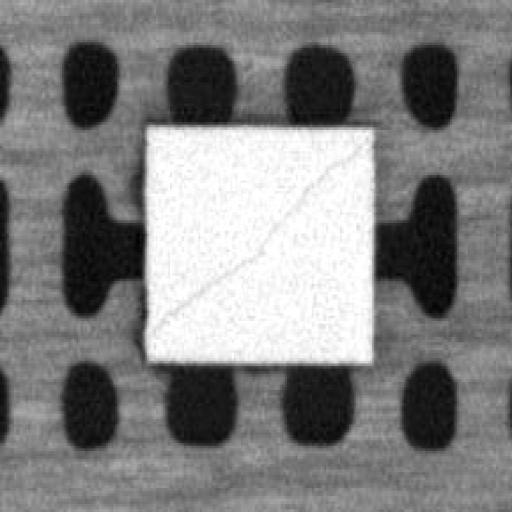DIE_CRACK: (152, 132, 367, 324)
